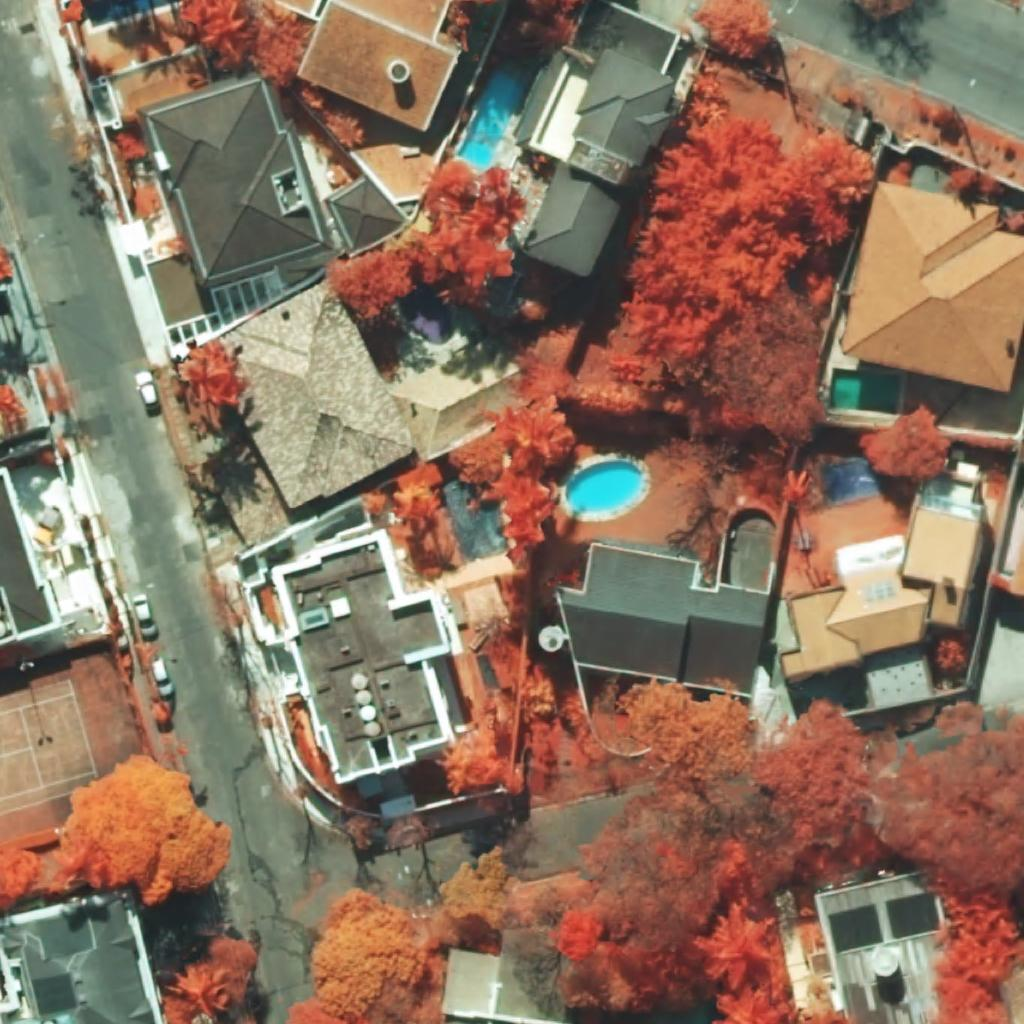pool: (457, 69, 527, 170), (565, 460, 642, 512), (829, 367, 902, 414), (399, 285, 453, 345), (87, 0, 183, 28), (825, 457, 881, 502)
